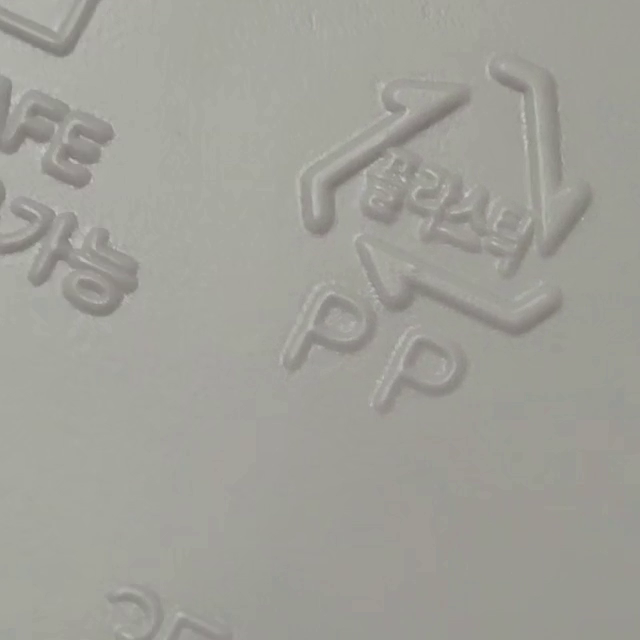Plastic: (300, 56, 590, 333)
